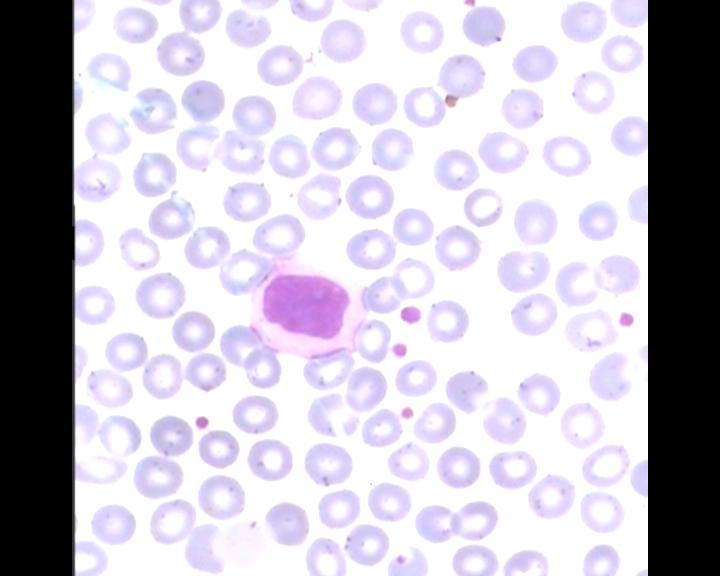mono: (243, 258, 371, 360)
